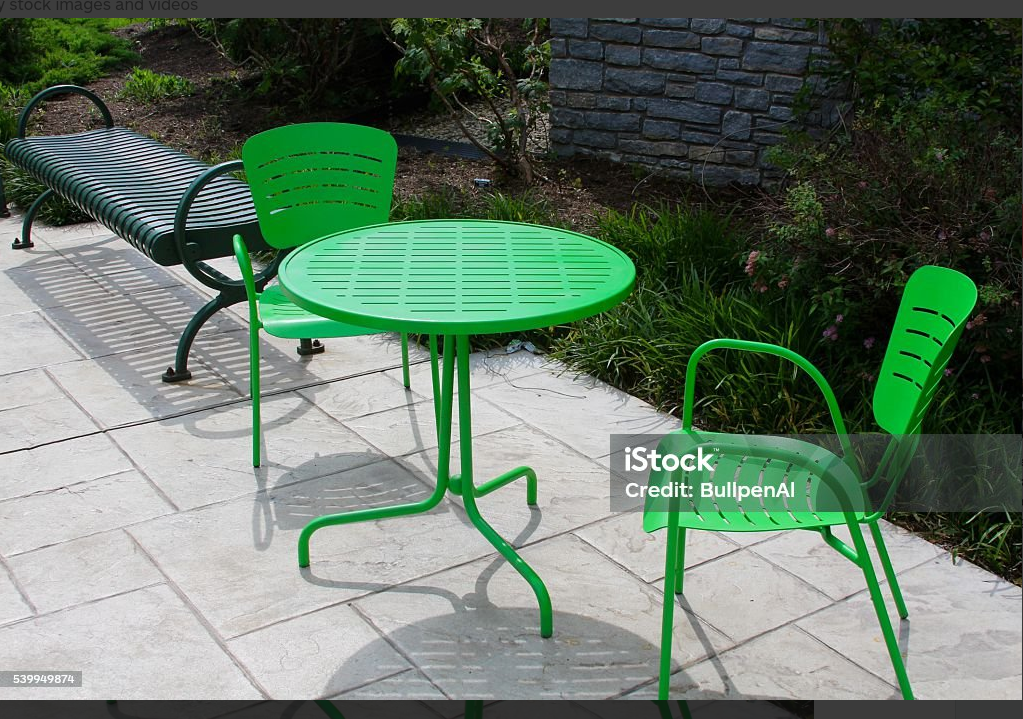obstacle: (274, 212, 642, 626), (640, 264, 989, 669), (9, 79, 249, 377), (231, 128, 416, 451)
